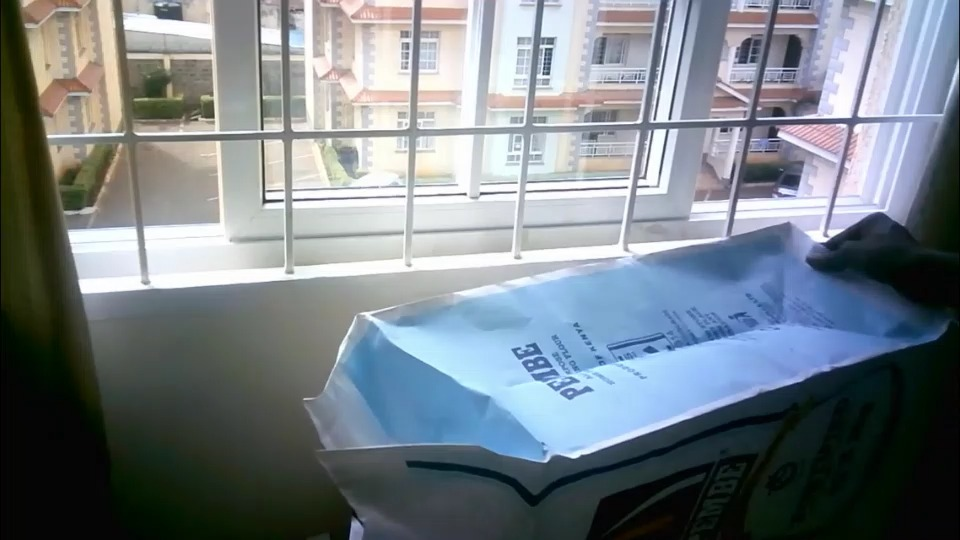wheat_flour_blue_label: (312, 223, 955, 540)
